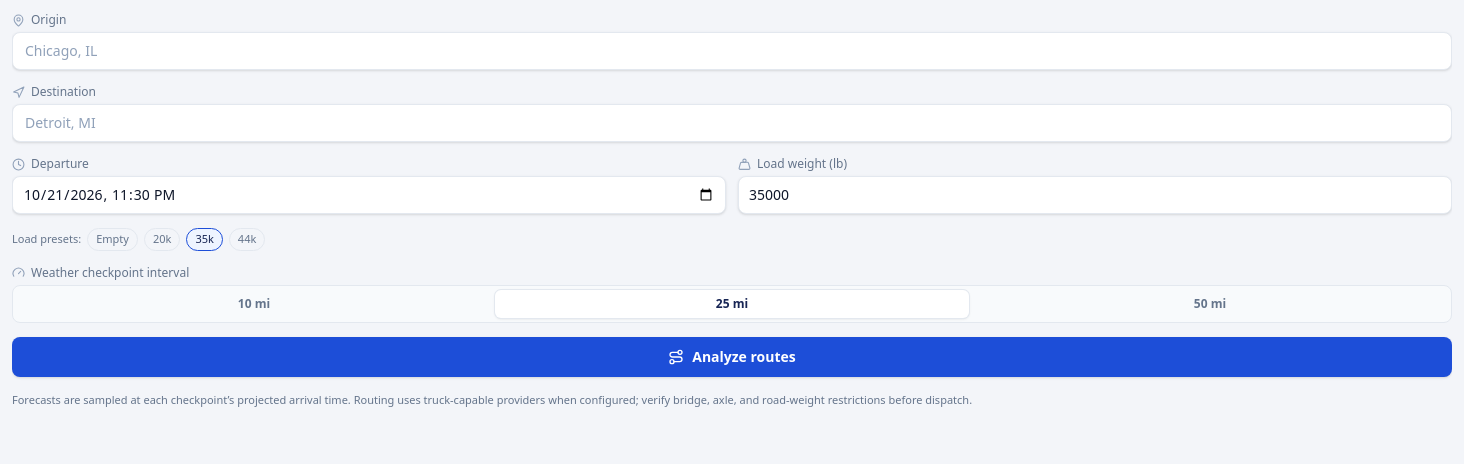
Test: TripPlanner › shows useful validation errors when required fields are empty
Step 1. Click the button "Analyze routes" → (732, 356), box [12,336,1452,376]
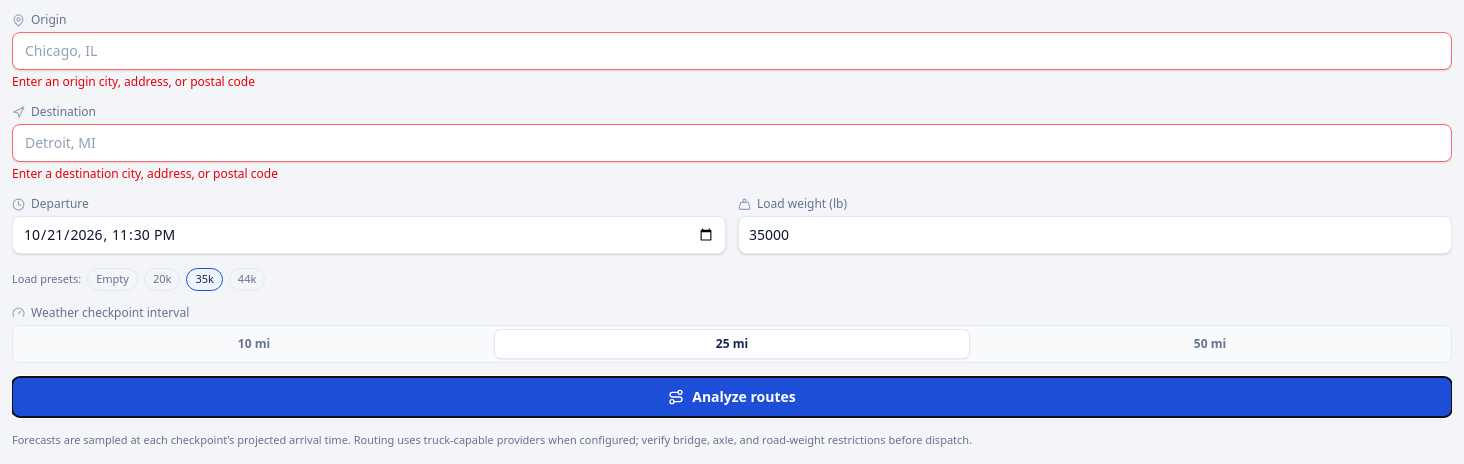
Now the text "Enter an origin city, address, or postal code" is shown, box [12,73,255,90]
Now the text "Enter a destination city, address, or postal code" is shown, box [12,165,278,182]
